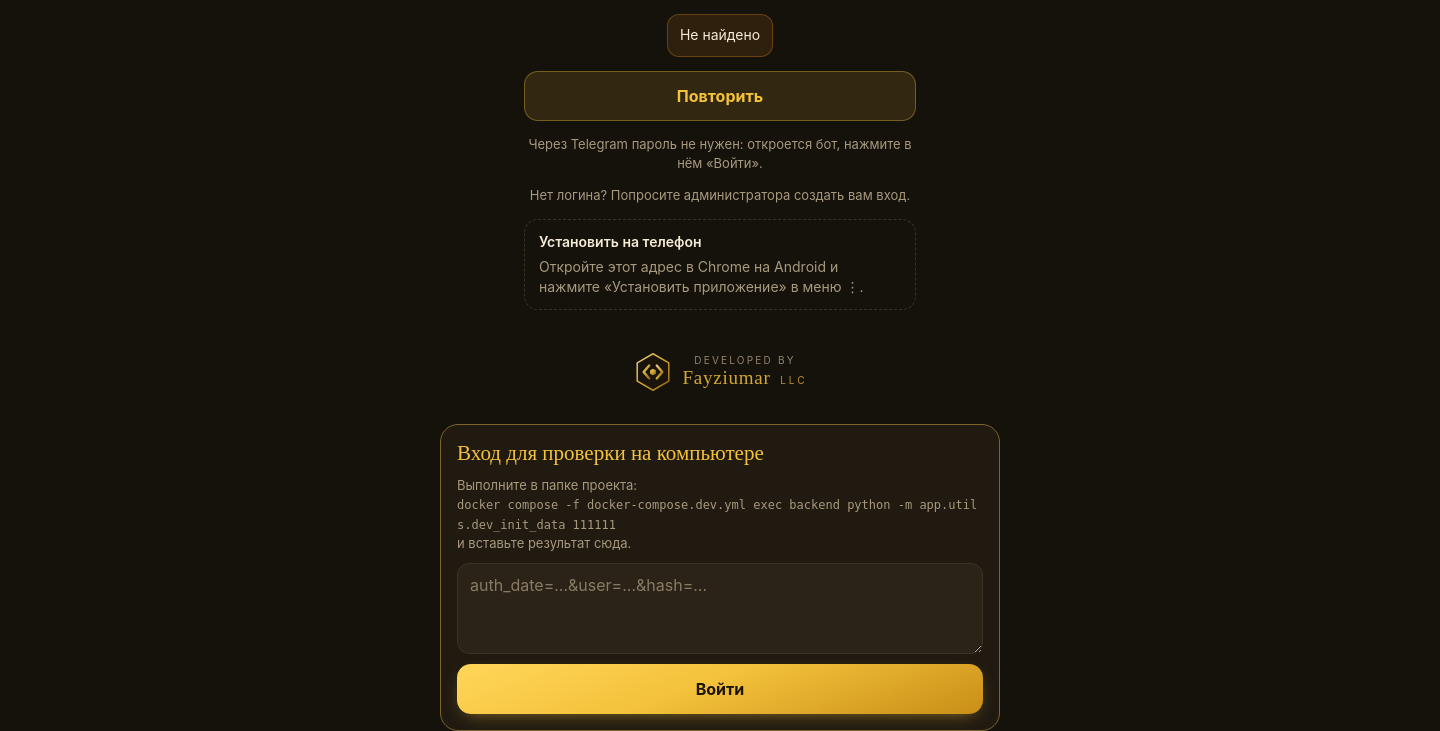
Test: Local dev login › logs in with a pasted signed initData when opened outside Telegram
(page scrolled)
Type "signed-by-dev-script" into the text box named "Строка входа" at (720, 609), box top-left (457, 563), bottom-right (983, 654)
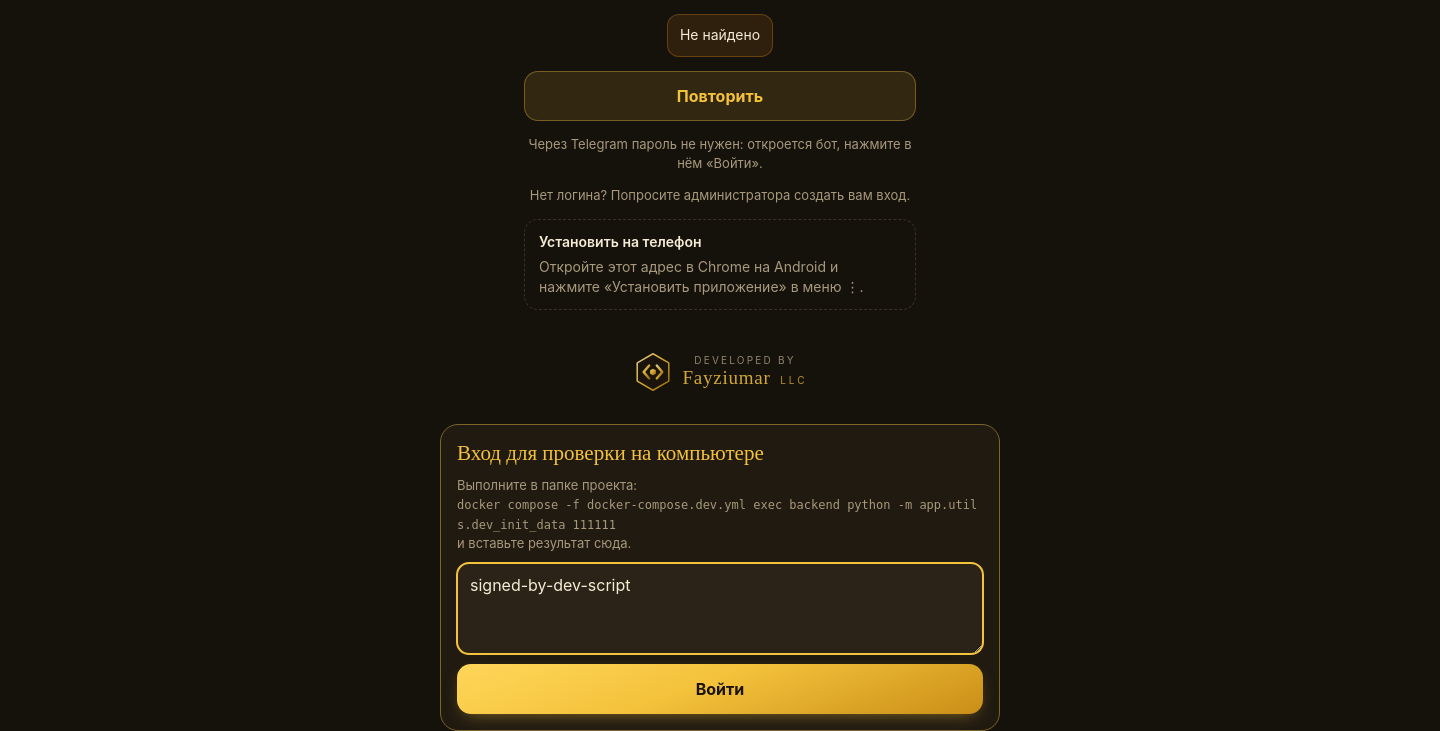
Click the button "Войти" below "и вставьте результат сюда." at (720, 689), box top-left (457, 664), bottom-right (983, 714)
(page scrolled)
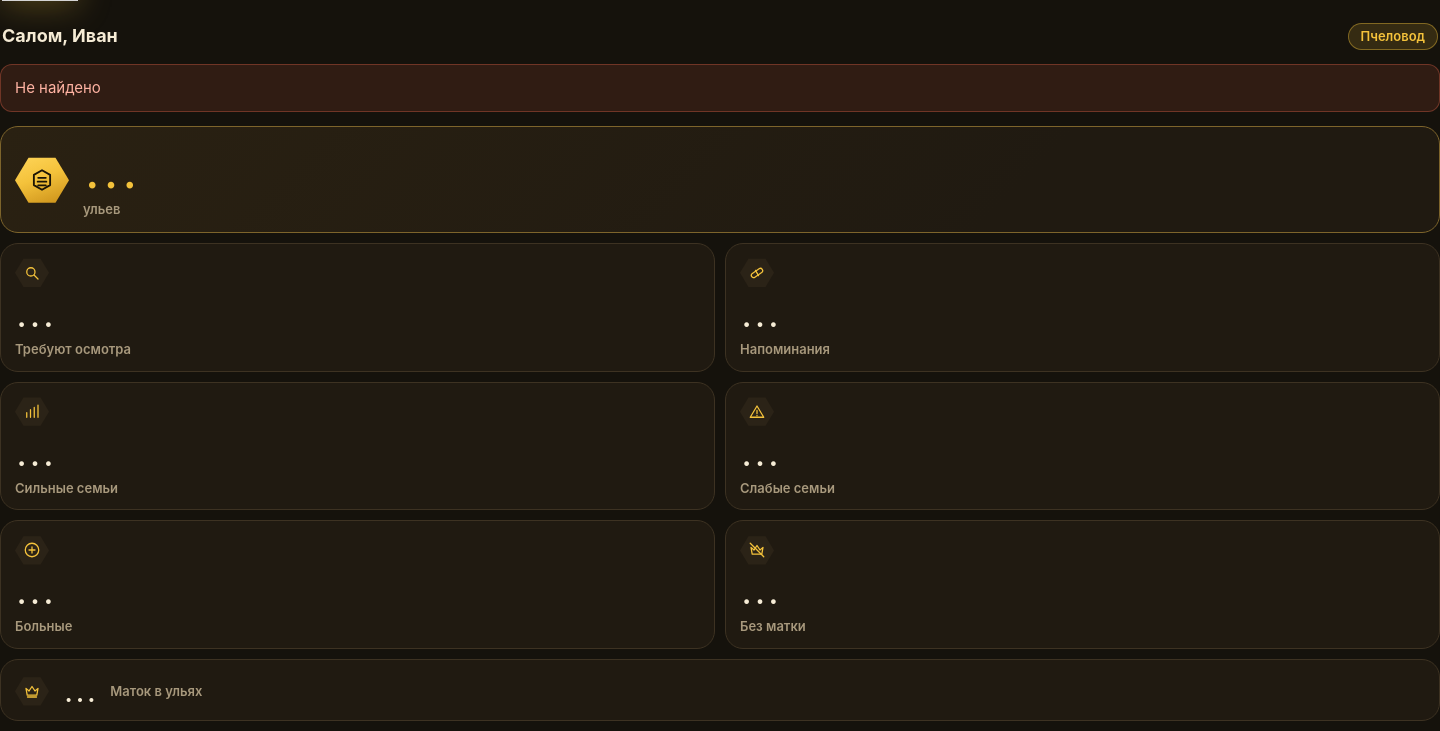
Check: the text "Салом, Иван" is shown, box top-left (2, 23), bottom-right (118, 49)
